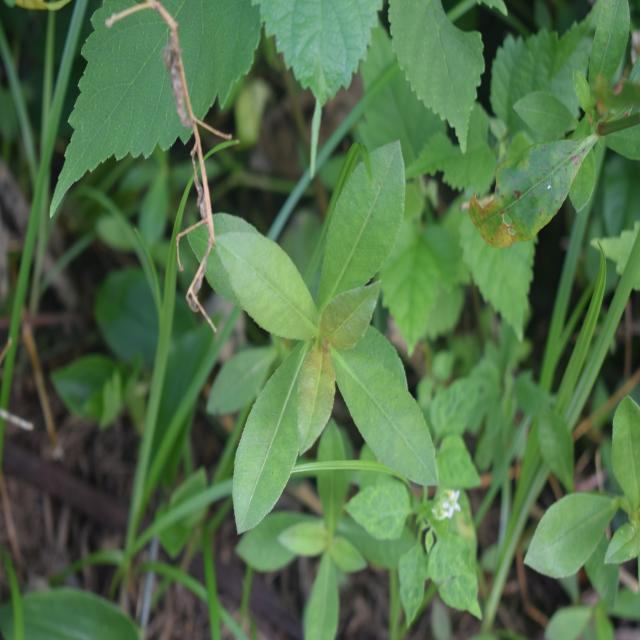Alligatorweed: (208, 143, 446, 502)
